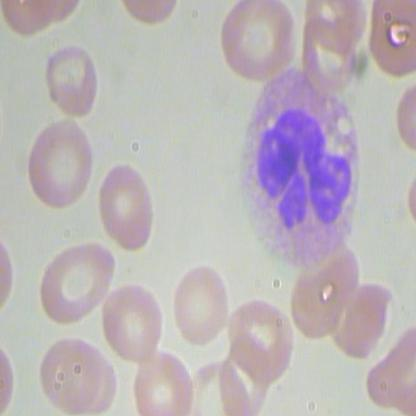RBC: (21, 112, 99, 215), (211, 1, 300, 90), (32, 239, 116, 328), (95, 156, 163, 257), (99, 279, 172, 371), (226, 295, 305, 378), (38, 39, 114, 122), (174, 253, 231, 351), (34, 338, 104, 413)
WBC: (231, 61, 378, 275)
